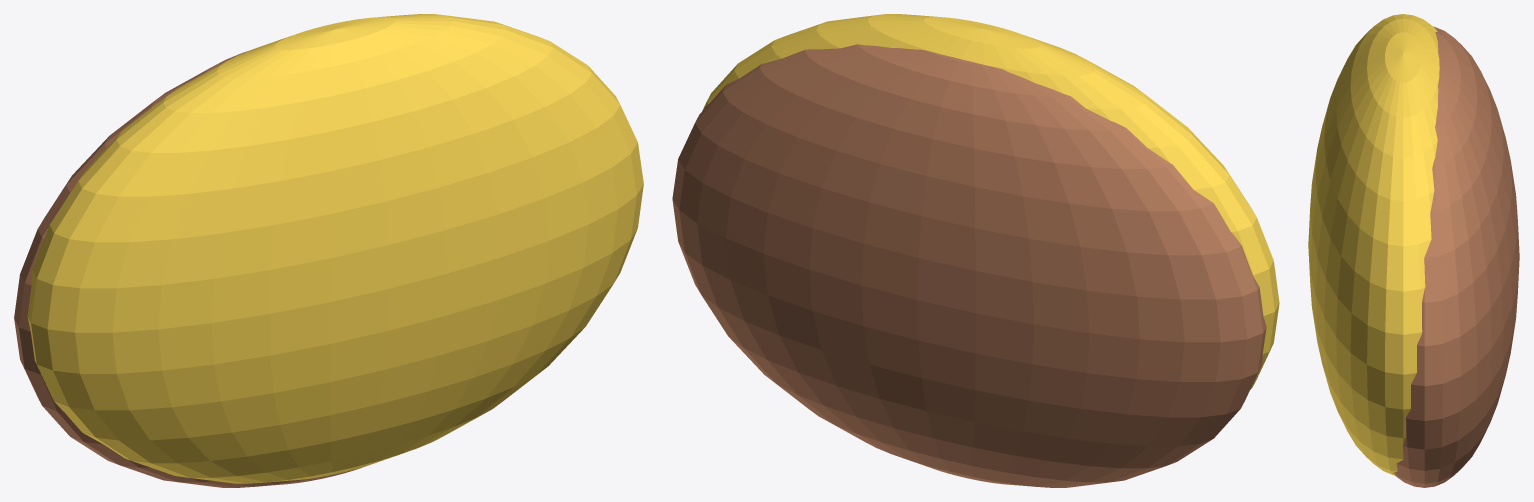
File: ui_button.glb
The picture shows the model from 3 angles, left to right: view 1: azimuth 30°, elevation 25°; view 2: azimuth 150°, elevation 25°; view 3: azimuth 270°, elevation 25°; orthographic projection. The views are drawn at different scales.
Visible parts, largest first — view 1: Sphere.001, Sphere; view 2: Sphere, Sphere.001; view 3: Sphere.001, Sphere.
Boxes of the visible parts, box(x1,y1,x2,y2) form: Sphere.001: box(27, 14, 643, 483); Sphere: box(14, 51, 365, 487); Sphere: box(672, 44, 1266, 487); Sphere.001: box(702, 14, 1279, 389); Sphere.001: box(1308, 14, 1439, 475); Sphere: box(1394, 26, 1519, 487).
Size of the model in its own units: 2.9 by 2.06 by 1.
